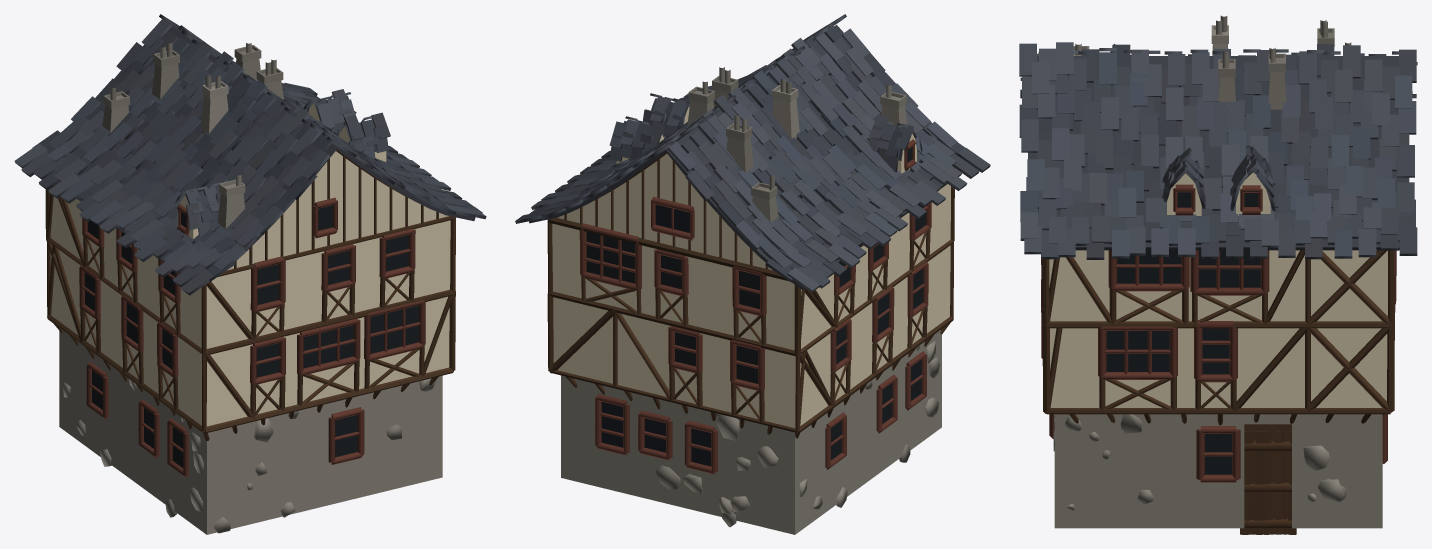
The model's file is house_34.glb.
3 views of the same model, side by side, from view 1: azimuth 30°, elevation 25°; view 2: azimuth 150°, elevation 25°; view 3: azimuth 270°, elevation 25° (orthographic). The views are drawn at different scales.
Visible parts, largest first — view 1: house_34; view 2: house_34; view 3: house_34.
Boxes of the visible parts, x1,y1,x2,y2 form: house_34: (14, 14, 486, 534); house_34: (515, 14, 990, 534); house_34: (1019, 15, 1417, 534).
Bounding box in the file's own units: 7.24 × 9 × 7.37.
